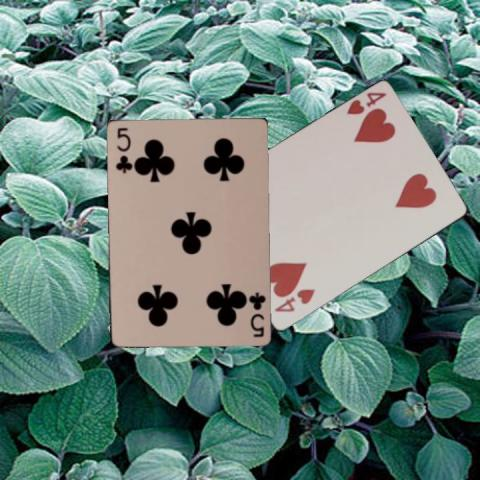4h: (270, 286, 316, 314), (343, 89, 388, 117)
5c: (245, 289, 267, 339), (112, 124, 131, 175)
